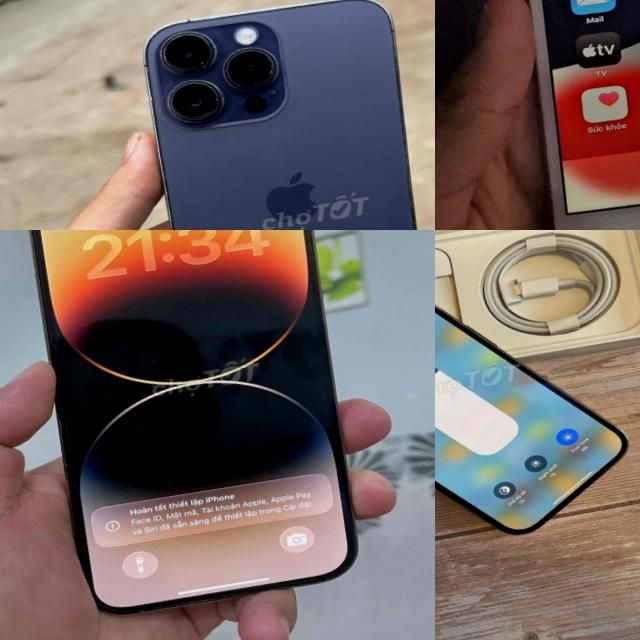gen_14: (5, 230, 374, 625), (131, 0, 435, 230), (435, 232, 640, 569)
gen_6: (528, 0, 640, 230)
